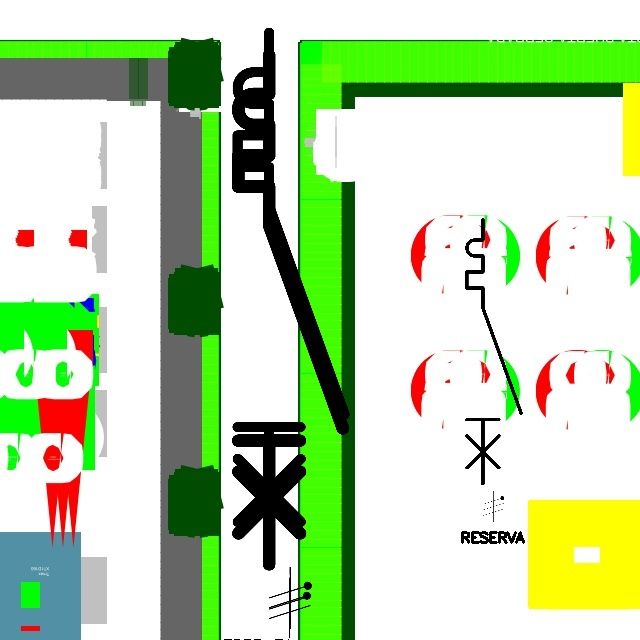interruptor_termomagnetico: (224, 19, 358, 567), (225, 42, 356, 578), (460, 213, 528, 491)
